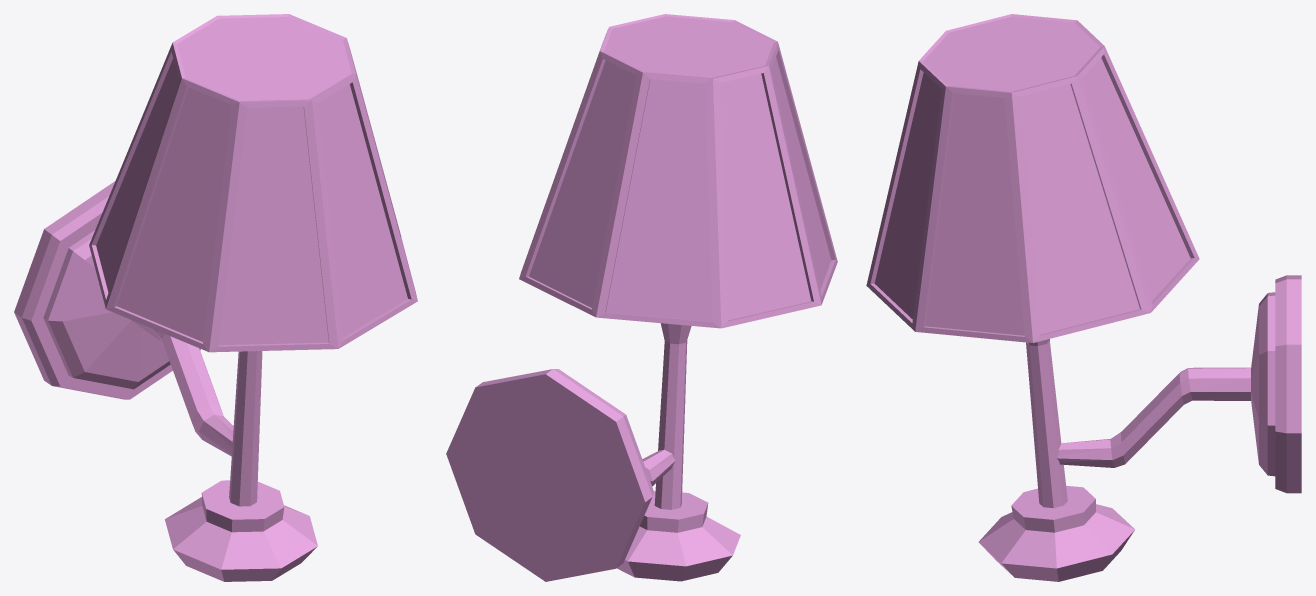
File: Candelabro2Low.fbx
3 renders of one model, left to right at view 1: azimuth 30°, elevation 25°; view 2: azimuth 150°, elevation 25°; view 3: azimuth 270°, elevation 25°, orthographic. The views are drawn at different scales.
Parts seen in each view (by area): view 1: Cylinder.019; view 2: Cylinder.019; view 3: Cylinder.019.
Part boxes in pixels (box(x1,y1,x2,y2)): Cylinder.019: box(14, 14, 417, 581); Cylinder.019: box(446, 14, 837, 581); Cylinder.019: box(866, 14, 1301, 581).
Size of the model in its own units: 37.05 by 62.91 by 48.19.
